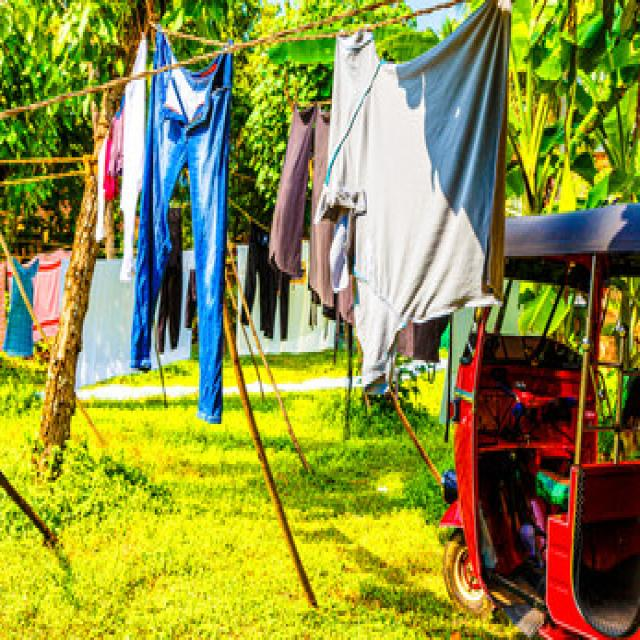three wheeler: (441, 203, 638, 640)
